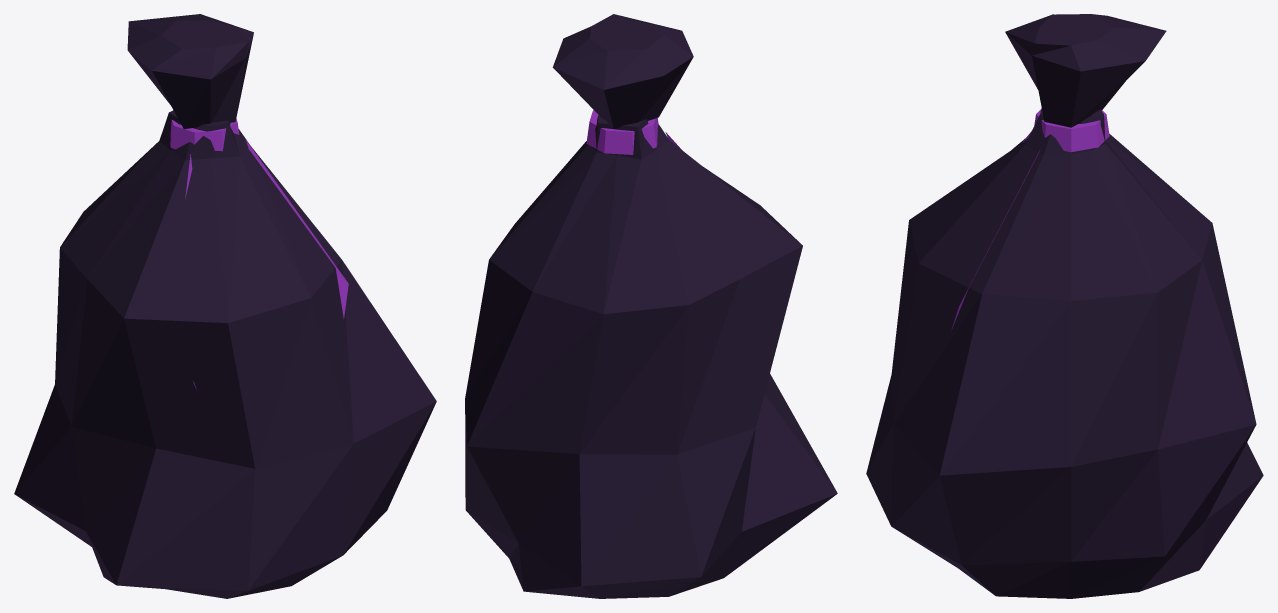
File: TrashBag_Final.fbx
The picture shows the model from 3 angles, left to right: view 1: azimuth 30°, elevation 25°; view 2: azimuth 150°, elevation 25°; view 3: azimuth 270°, elevation 25°; orthographic projection.
Parts seen in each view (by area): view 1: TrashBag_Final; view 2: TrashBag_Final; view 3: TrashBag_Final.
Boxes of the visible parts, box(x1,y1,x2,y2) form: TrashBag_Final: box(14, 14, 436, 598); TrashBag_Final: box(465, 14, 837, 598); TrashBag_Final: box(866, 14, 1263, 598).
Bounding box in the file's own units: 0.2316 × 0.36 × 0.2481.
